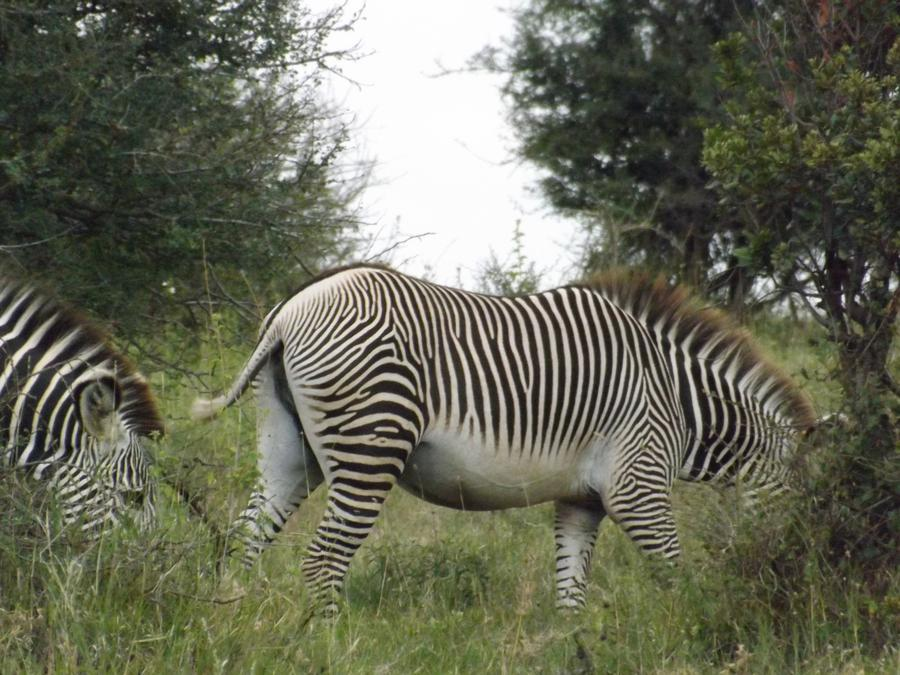zebra_grevys: (275, 258, 675, 481)
